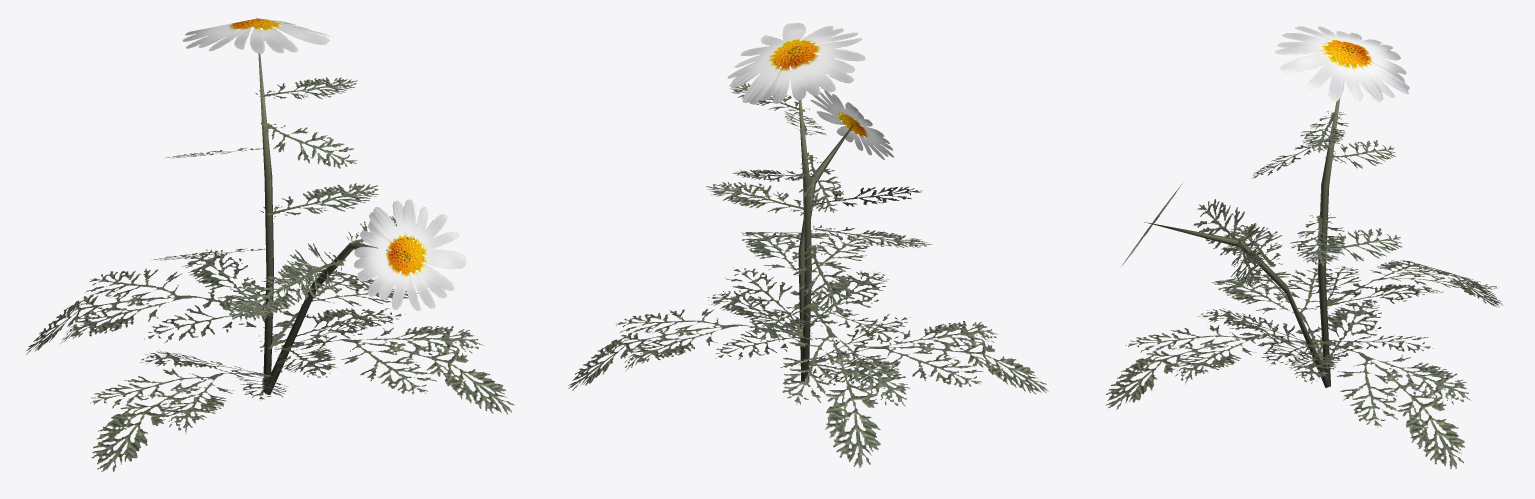
File: Ramashka03.FBX
3 renders of one model, left to right at view 1: azimuth 30°, elevation 25°; view 2: azimuth 150°, elevation 25°; view 3: azimuth 270°, elevation 25°, orthographic. The views are drawn at different scales.
Visible parts, largest first — view 1: Ramashka03; view 2: Ramashka03; view 3: Ramashka03.
Part boxes in pixels (x1,y1,x2,y2): Ramashka03: (26,17,514,471); Ramashka03: (568,23,1048,468); Ramashka03: (1106,26,1503,468).
Bounding box in the file's own units: 8.71 × 7.47 × 8.22.
